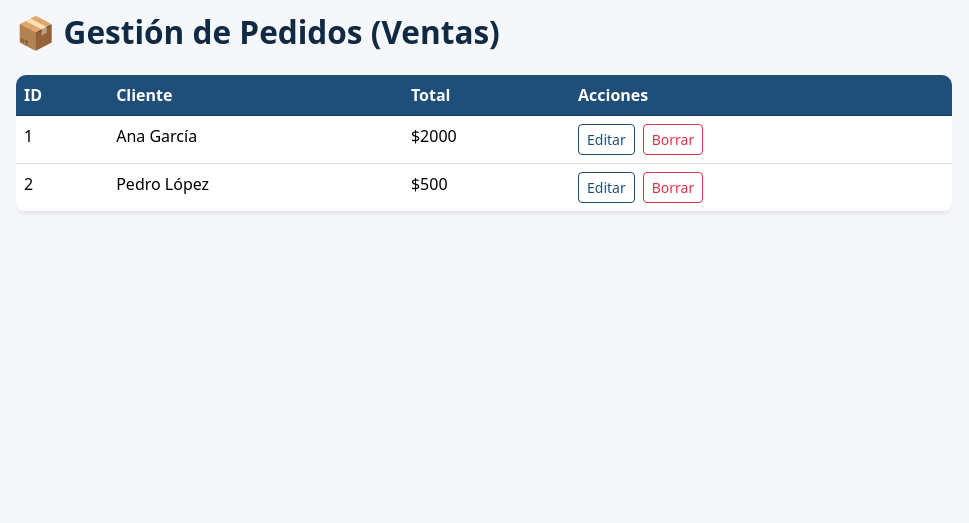
Scenario: GestionPedidos › cierra el panel de edición al hacer click en X
Expected: the text "Ana García" is shown, [108,115,403,163]
Click the button "Editar" in the row of "Ana García": [606, 139] box [578,124,635,155]
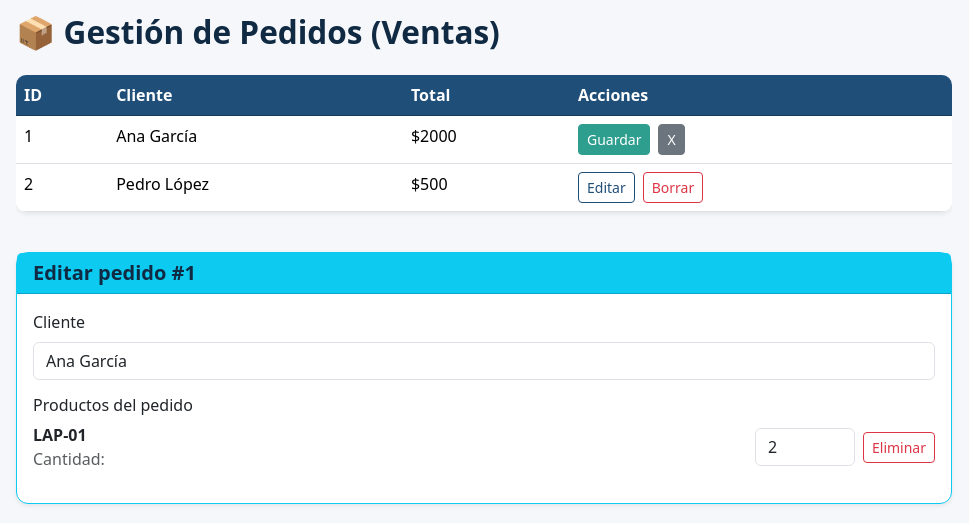
Expected: the heading "Editar pedido #1" is shown, [33,259,196,286]
Click the button "X": [672, 139] box [658,124,685,155]
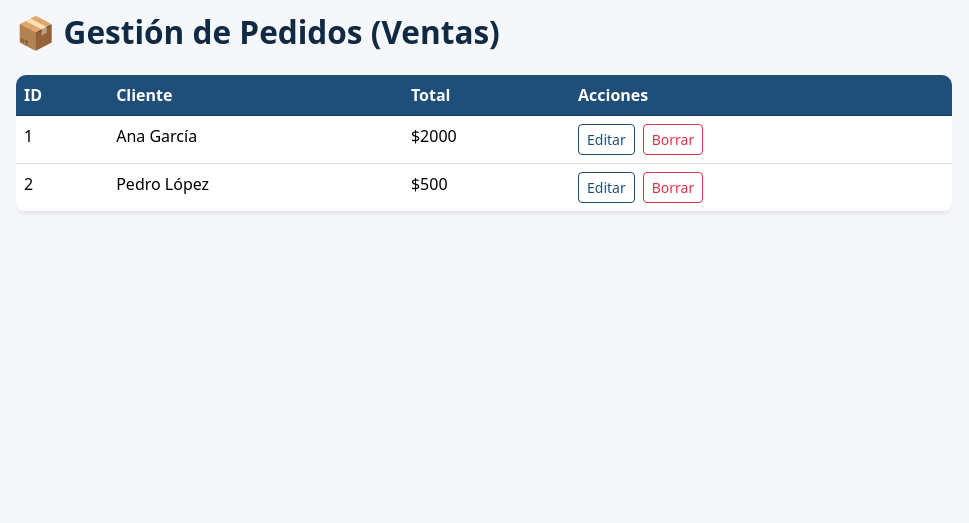
Expected: the heading "Editar pedido #1" is gone
